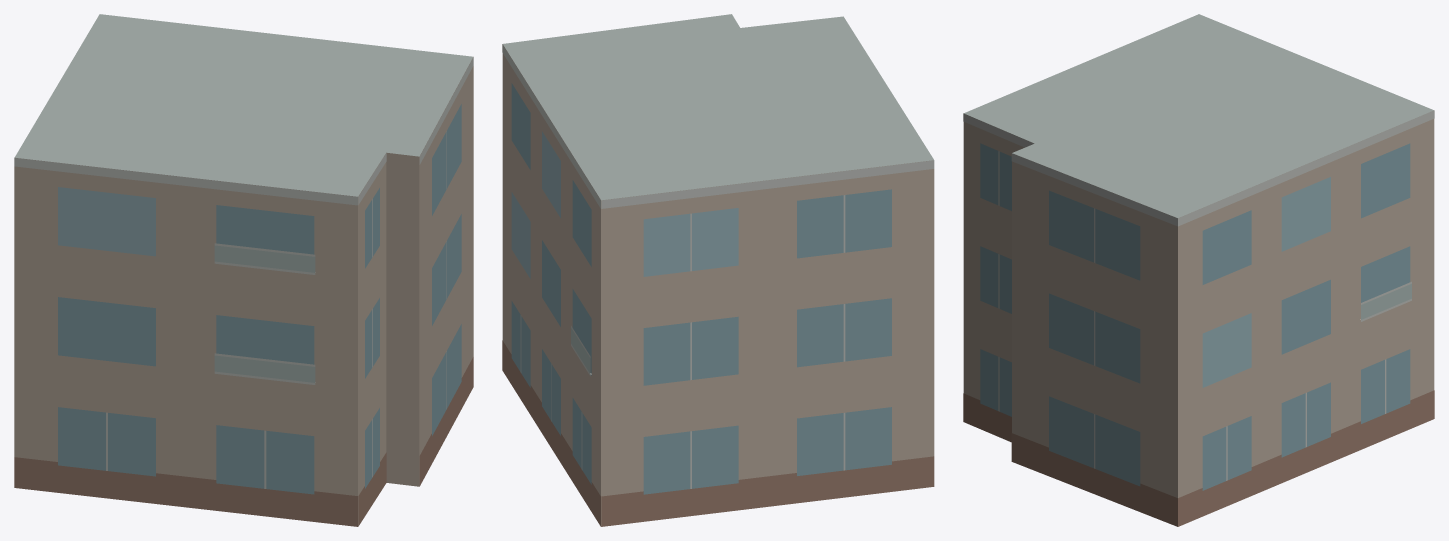
File: survey-upis-32719463.glb
3 renders of one model, left to right at view 1: azimuth 30°, elevation 25°; view 2: azimuth 150°, elevation 25°; view 3: azimuth 270°, elevation 25°, orthographic. The views are drawn at different scales.
Parts seen in each view (by area): view 1: survey-upis-32719463.tmp; view 2: survey-upis-32719463.tmp; view 3: survey-upis-32719463.tmp.
Part boxes in pixels (<box>): survey-upis-32719463.tmp: <box>14,14,473,526</box>; survey-upis-32719463.tmp: <box>502,14,934,526</box>; survey-upis-32719463.tmp: <box>963,14,1434,526</box>.
Bounding box in the file's own units: 13 × 9.15 × 12.66.
